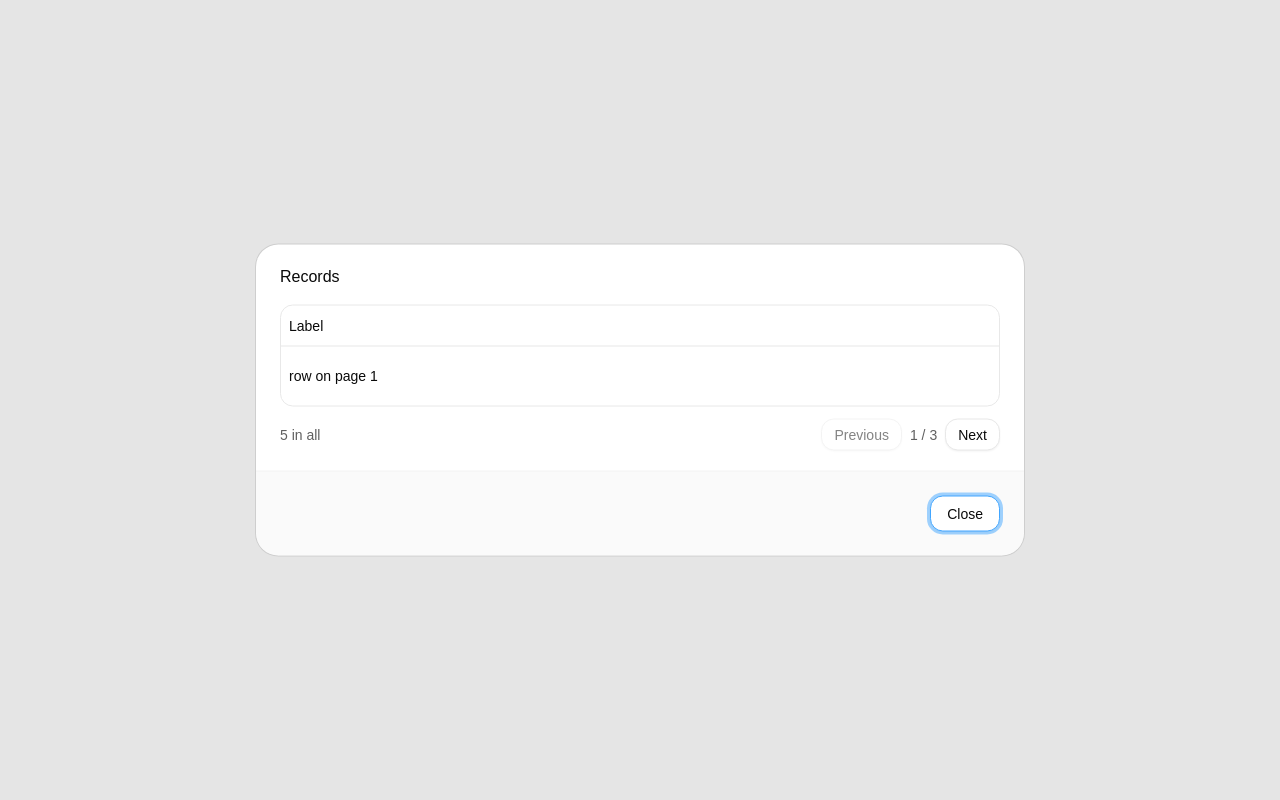
Test: moves to the next page and back
Expected: the text "row on page 1" is shown, [281, 346, 999, 406]
Expected: the text "1 / 3" is shown, [910, 424, 937, 444]
Click the button "Next" at (973, 434), box [945, 418, 1000, 450]
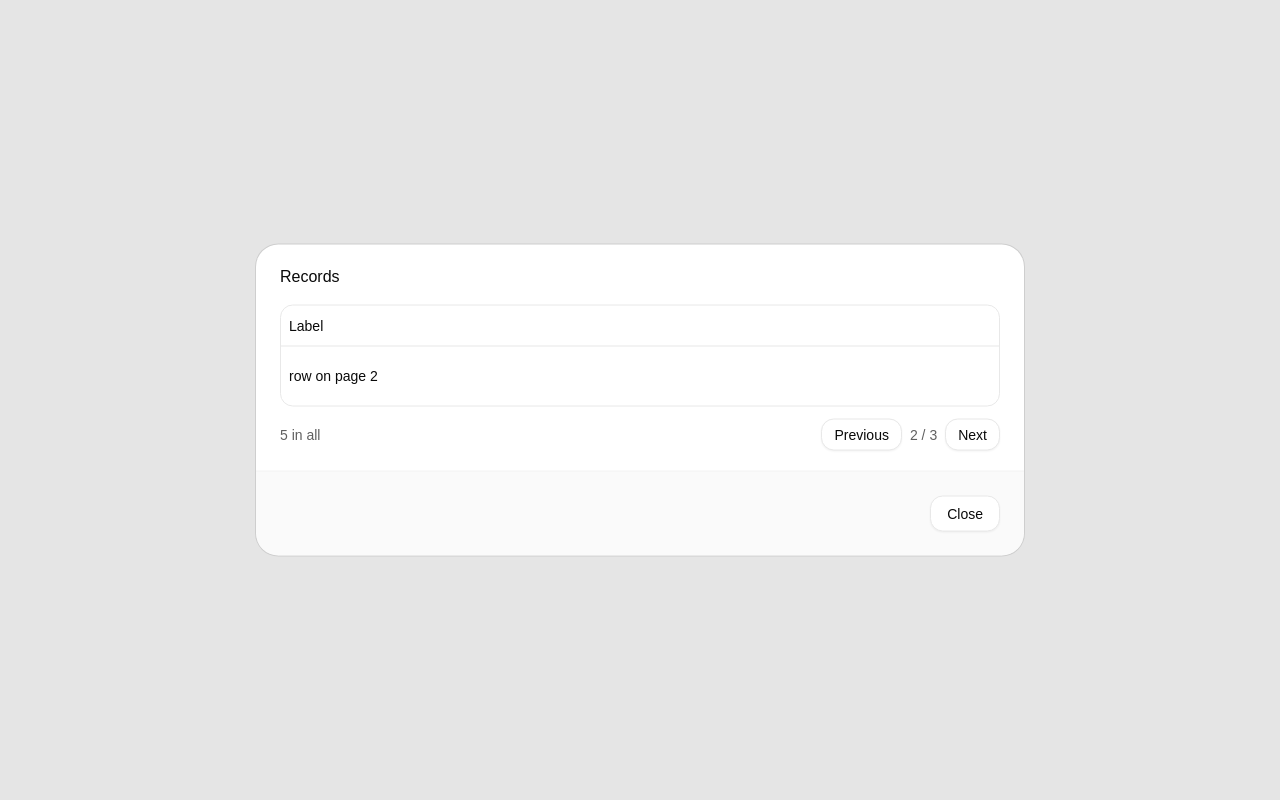
Now the text "row on page 2" is shown, box [281, 346, 999, 406]
Click the button "Previous" at (862, 434), box [822, 418, 902, 450]
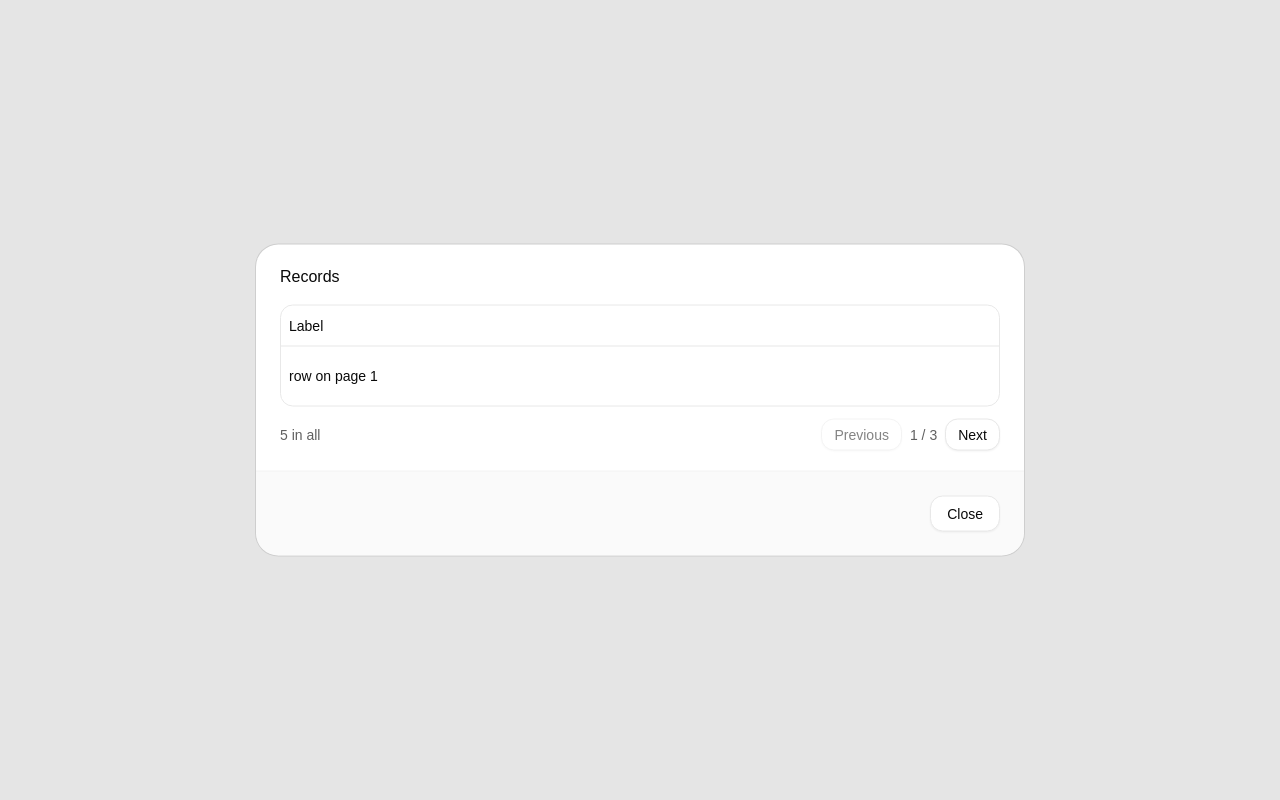
Now the text "row on page 1" is shown, box [281, 346, 999, 406]
